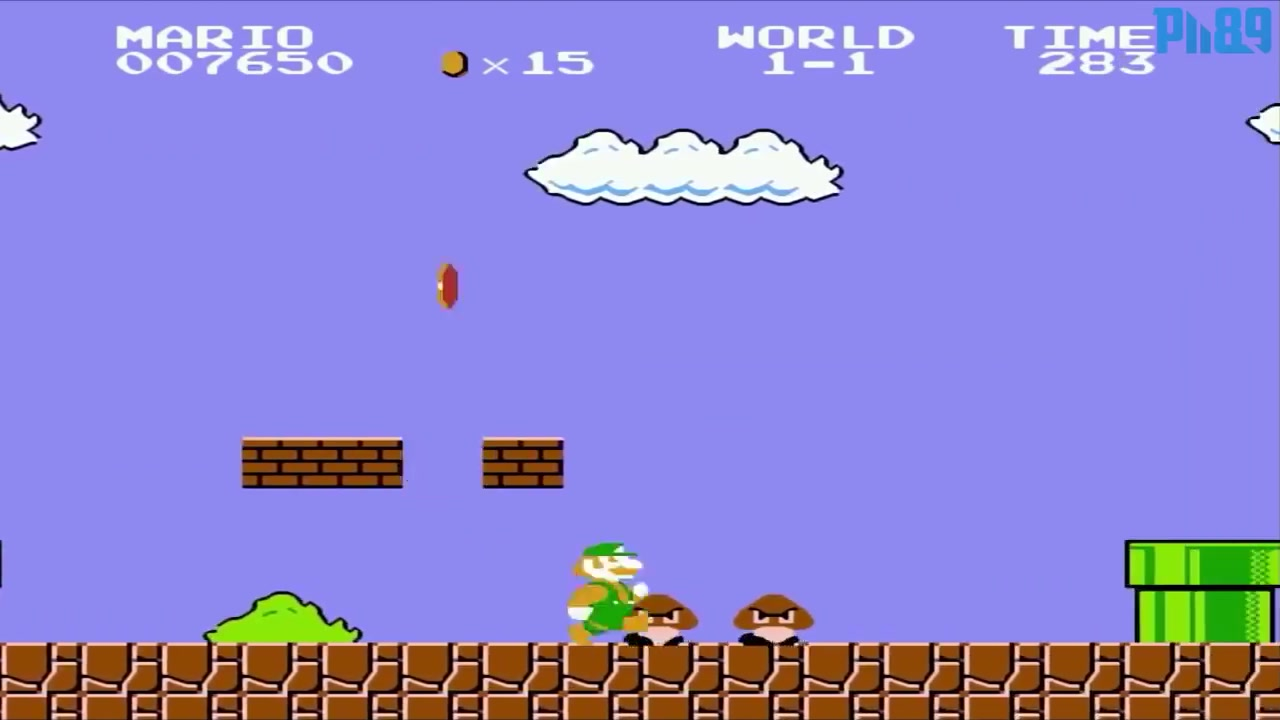mario: (563, 524, 646, 647)
